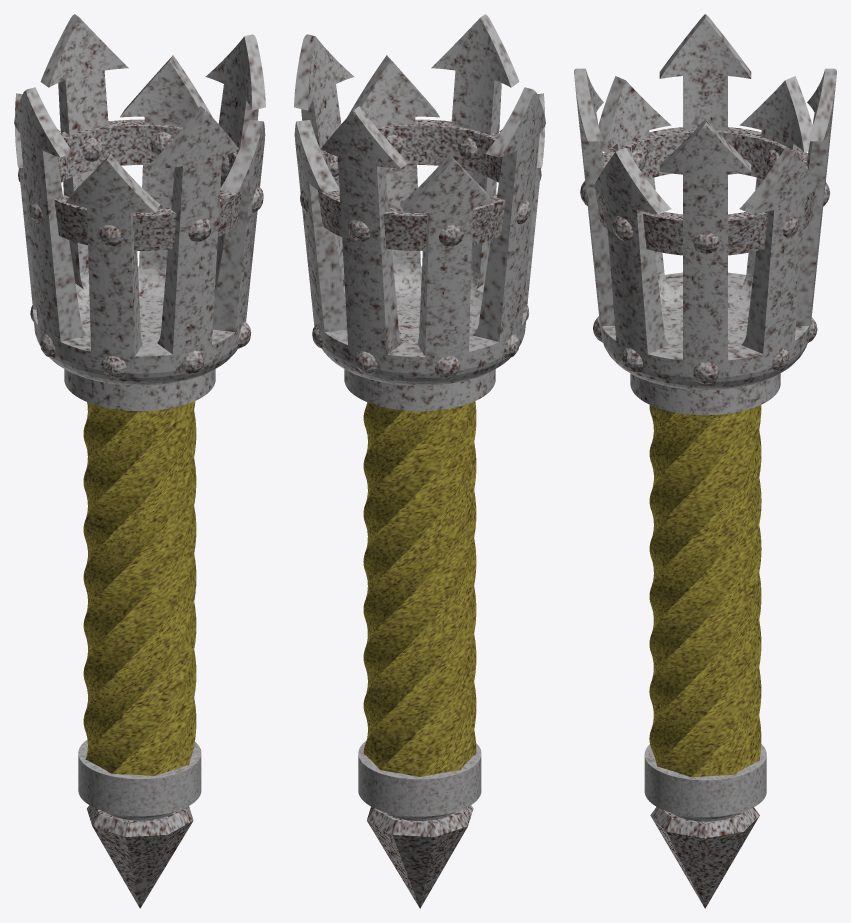
Rendered from brazier.fbx.
3 renders of one model, left to right at view 1: azimuth 30°, elevation 25°; view 2: azimuth 150°, elevation 25°; view 3: azimuth 270°, elevation 25°, orthographic.
Parts seen in each view (by area): view 1: Cylinder.003_Baked, Cylinder.002_Baked, Cylinder.004_Baked, Cylinder.001_Baked, Cone_Baked; view 2: Cylinder.003_Baked, Cylinder.002_Baked, Cylinder.004_Baked, Cylinder.001_Baked, Cone_Baked; view 3: Cylinder.003_Baked, Cylinder.002_Baked, Cylinder.004_Baked, Cylinder.001_Baked, Cone_Baked.
Part boxes in pixels (x1,y1,x2,y2): Cylinder.003_Baked: (14,14,265,410); Cylinder.002_Baked: (83,401,196,776); Cylinder.004_Baked: (54,119,241,250); Cylinder.001_Baked: (78,739,201,820); Cone_Baked: (87,805,193,908); Cylinder.003_Baked: (294,14,545,411); Cylinder.002_Baked: (363,401,476,777); Cylinder.004_Baked: (318,119,505,250); Cylinder.001_Baked: (358,741,481,820); Cone_Baked: (367,805,473,908); Cylinder.003_Baked: (574,14,836,415); Cylinder.002_Baked: (649,405,761,777); Cylinder.004_Baked: (594,127,816,255); Cylinder.001_Baked: (644,744,766,821); Cone_Baked: (650,807,759,908).
Bounding box in the file's own units: 1292 × 4556 × 1292.
1 material, 1 textured.
